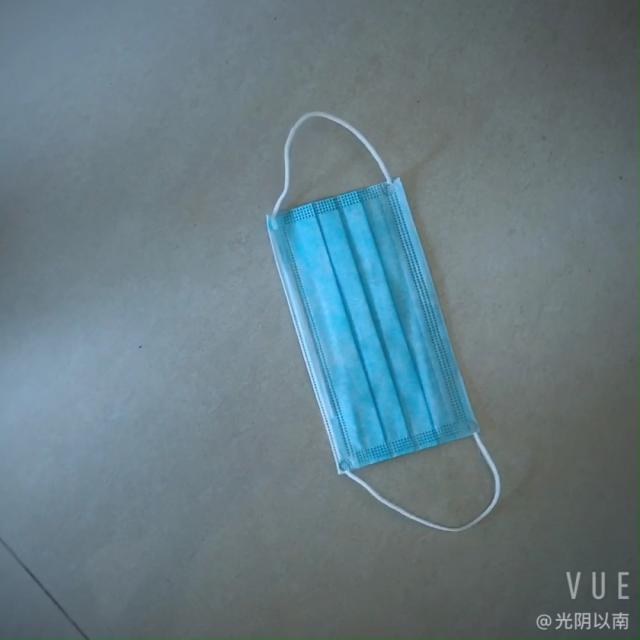non-organic waste: (262, 173, 486, 475)
